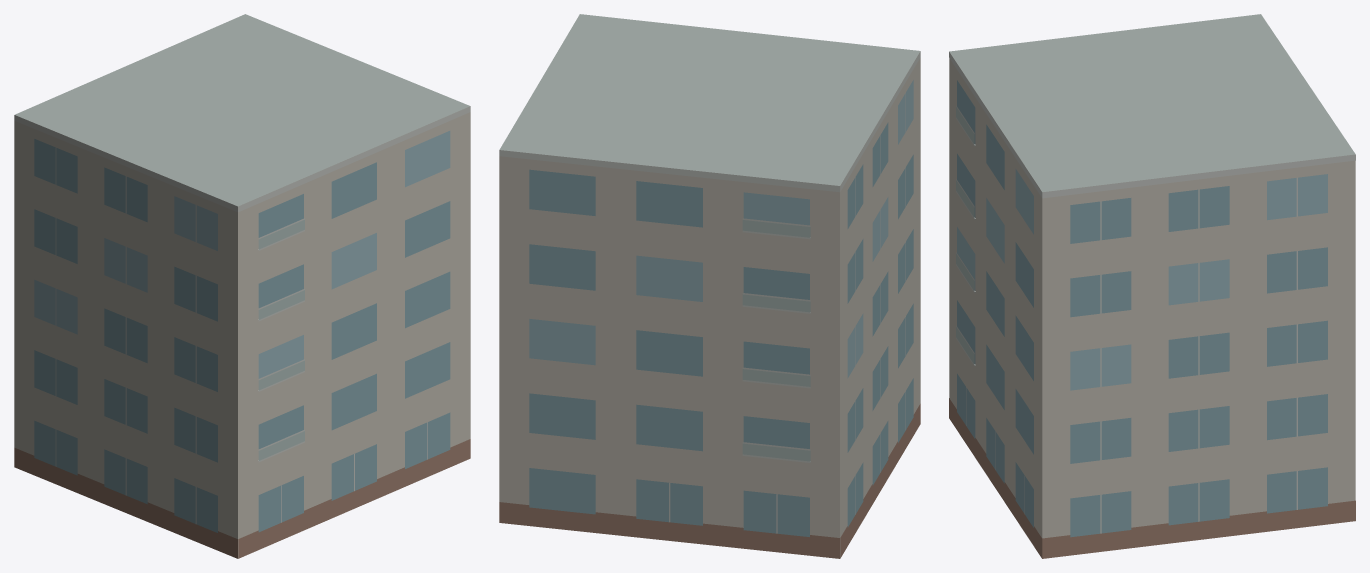
Rendered from survey-upis-33027000.glb.
The picture shows the model from 3 angles, left to right: view 1: azimuth 30°, elevation 25°; view 2: azimuth 150°, elevation 25°; view 3: azimuth 270°, elevation 25°; orthographic projection. The views are drawn at different scales.
Parts seen in each view (by area): view 1: survey-upis-33027000.tmp; view 2: survey-upis-33027000.tmp; view 3: survey-upis-33027000.tmp.
Boxes of the visible parts, <box> form: survey-upis-33027000.tmp: <box>14,14,470,558</box>; survey-upis-33027000.tmp: <box>499,14,920,558</box>; survey-upis-33027000.tmp: <box>949,14,1355,558</box>.
Size of the model in its own units: 15.23 by 14.6 by 14.69.
